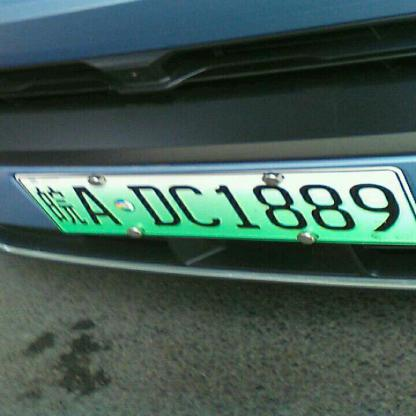lp: (63, 172, 414, 242)
